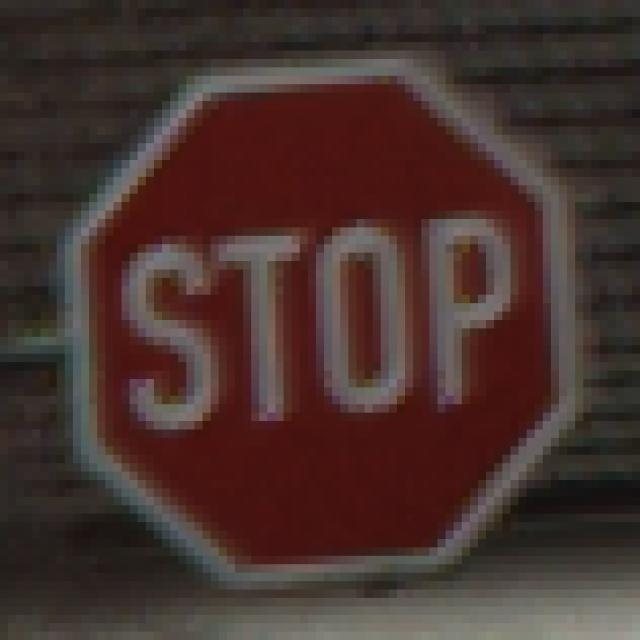STOP: (58, 52, 584, 591)
